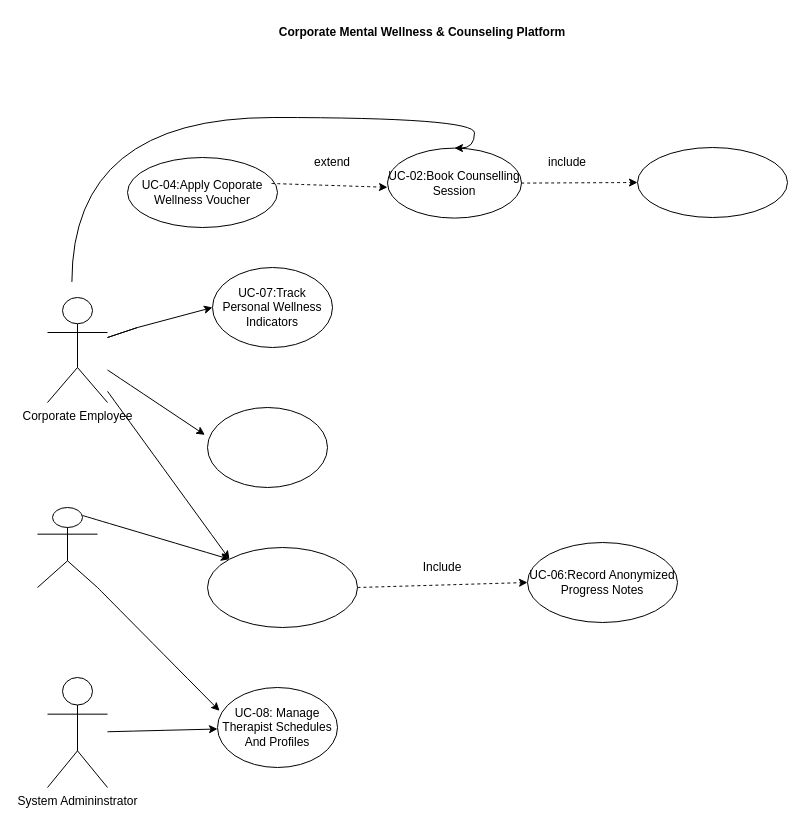
The diagram is 805 pixels wide and 825 high, and some of its shapes have lost their labels. Here are the shapes that lost their labels. From the top down, the centre of each, then its label:
At pixel 712 182: "UC-03:Verify Employee Anonymity".
At pixel 267 447: "UC-01:Complete Stress Assessment".
At pixel 67 547: "Licensed Therapist".
At pixel 282 587: "UC-05:Conduct Tele-Counselling Session".
